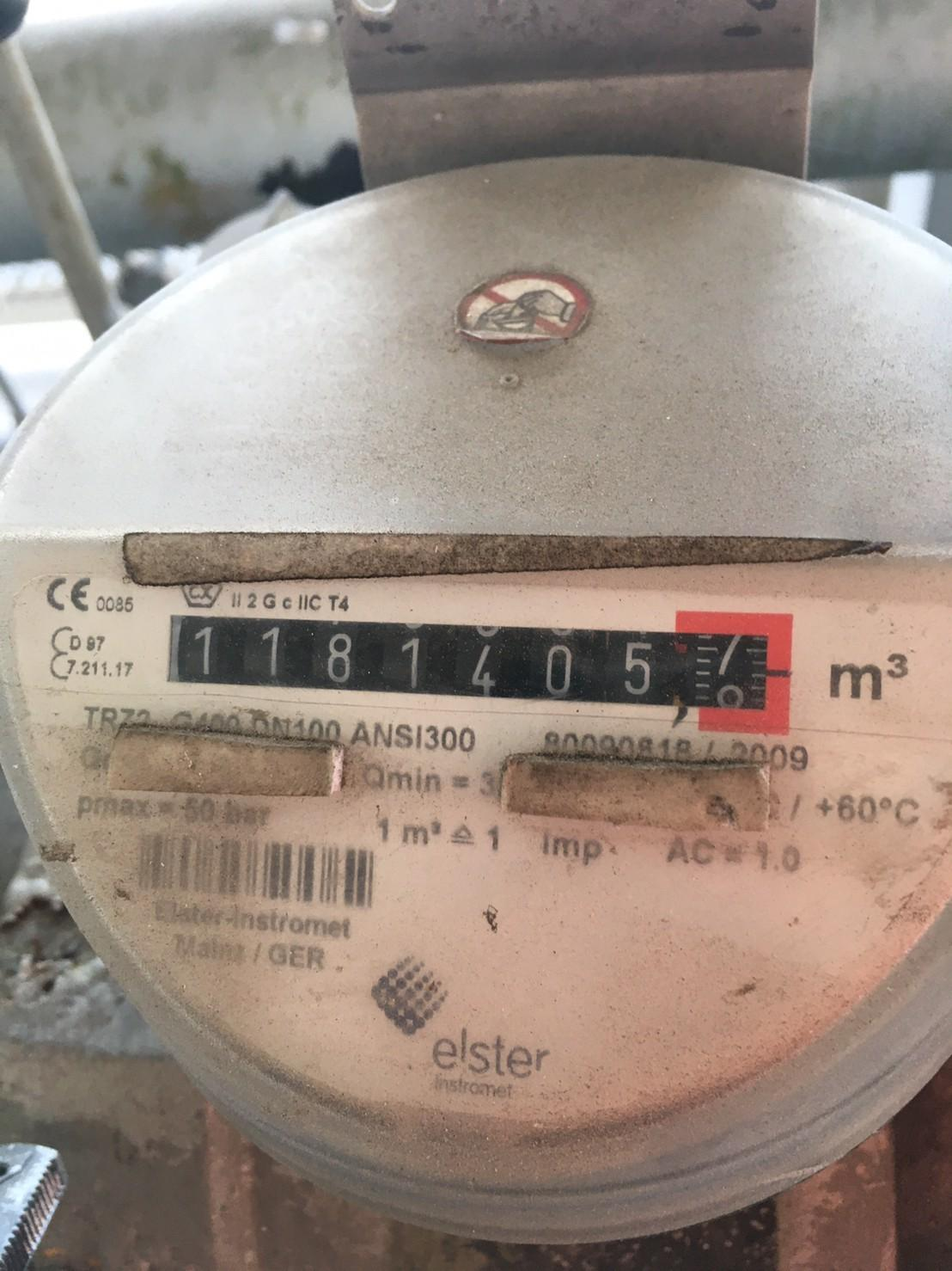analog_dial: (160, 570, 803, 742)
